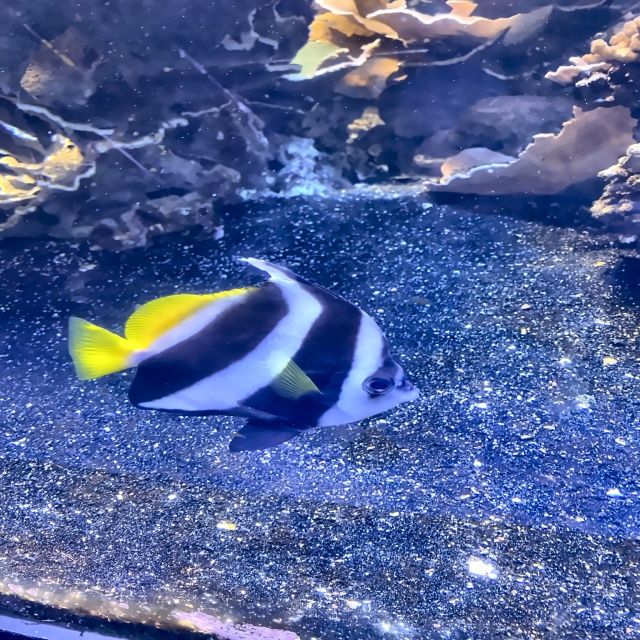fish: (70, 258, 419, 451)
